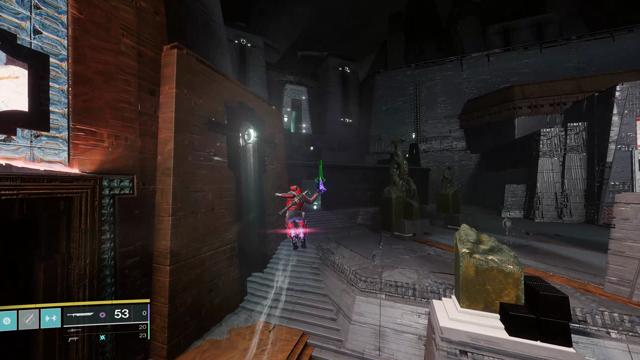give: (637, 119, 640, 148)
worship: (0, 50, 28, 113)
